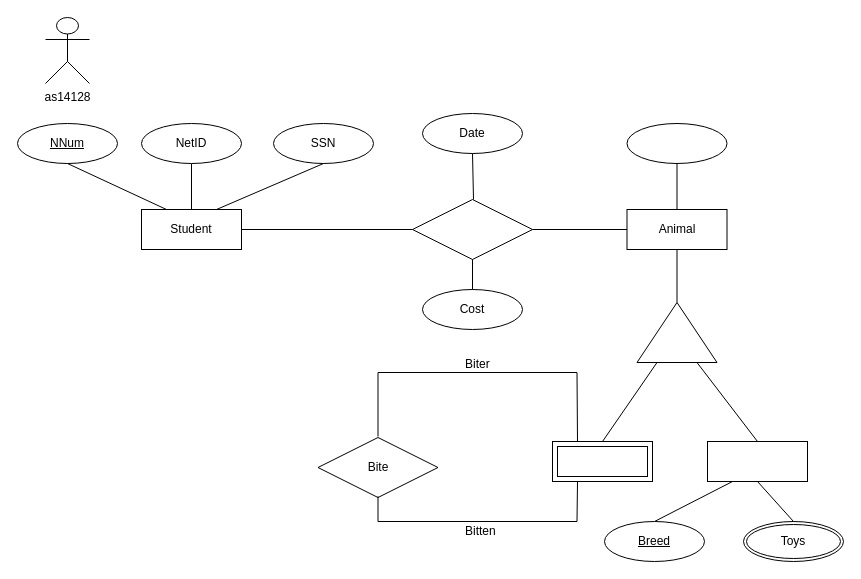
Image size: 861x579. Some labels were removed from this diagram. The centre of each missing label's shape, as x and y in pixels:
"Belongs" goes at point (472, 229).
"Cat" goes at point (757, 461).
"Dog" goes at point (602, 461).
"IsA" goes at point (676, 332).
"SerialNum" goes at point (676, 143).
